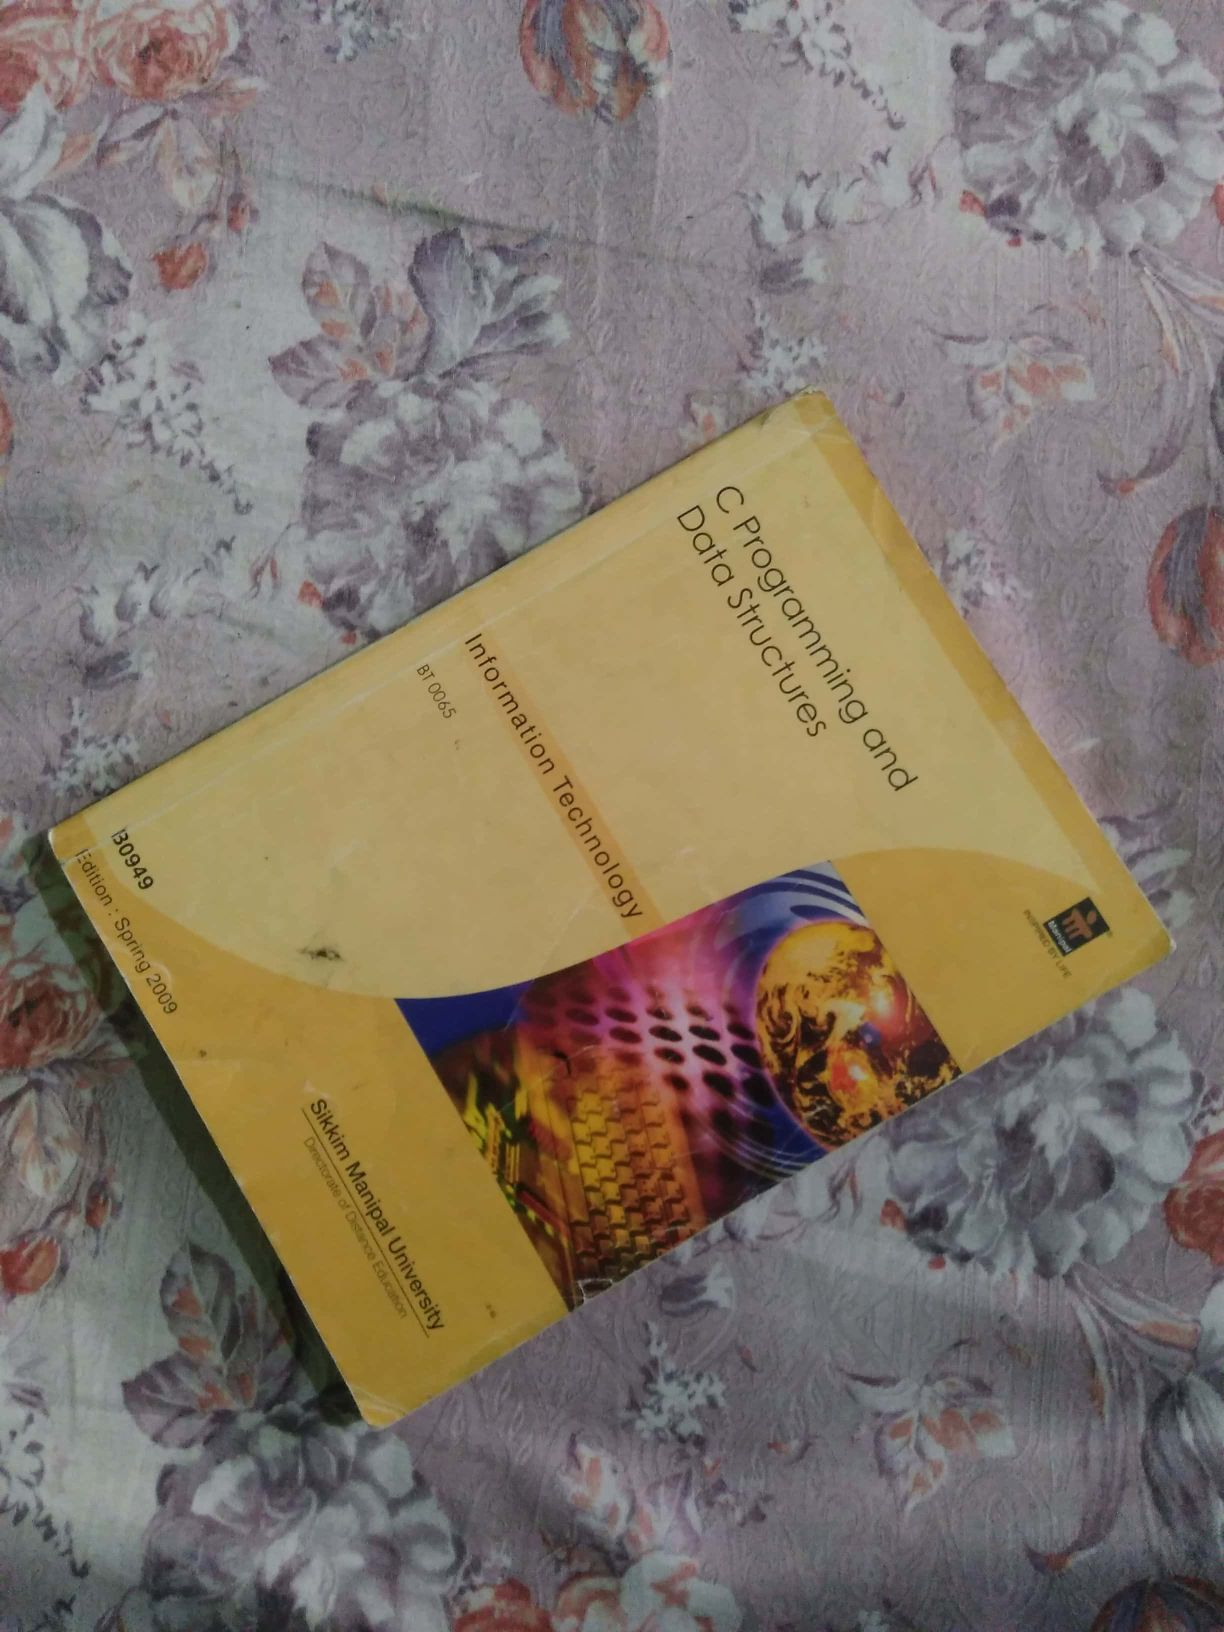clang: (78, 427, 1148, 1426)
